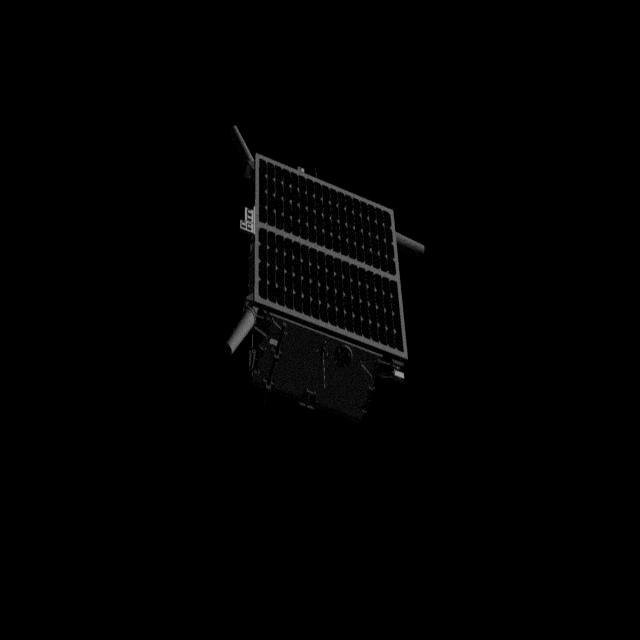satellite: (218, 122, 420, 426)
